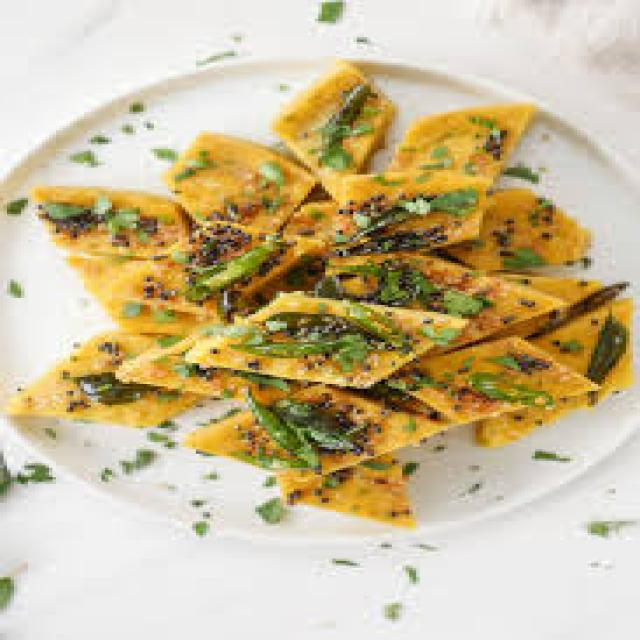DHOKLA: (167, 282, 473, 398), (488, 275, 637, 443), (171, 391, 442, 479), (319, 256, 546, 350), (327, 167, 506, 274), (271, 59, 399, 193), (391, 338, 585, 422), (13, 340, 190, 425), (435, 184, 598, 269), (176, 143, 310, 231), (394, 107, 534, 176), (39, 188, 185, 253), (295, 454, 419, 527), (78, 271, 227, 325)
